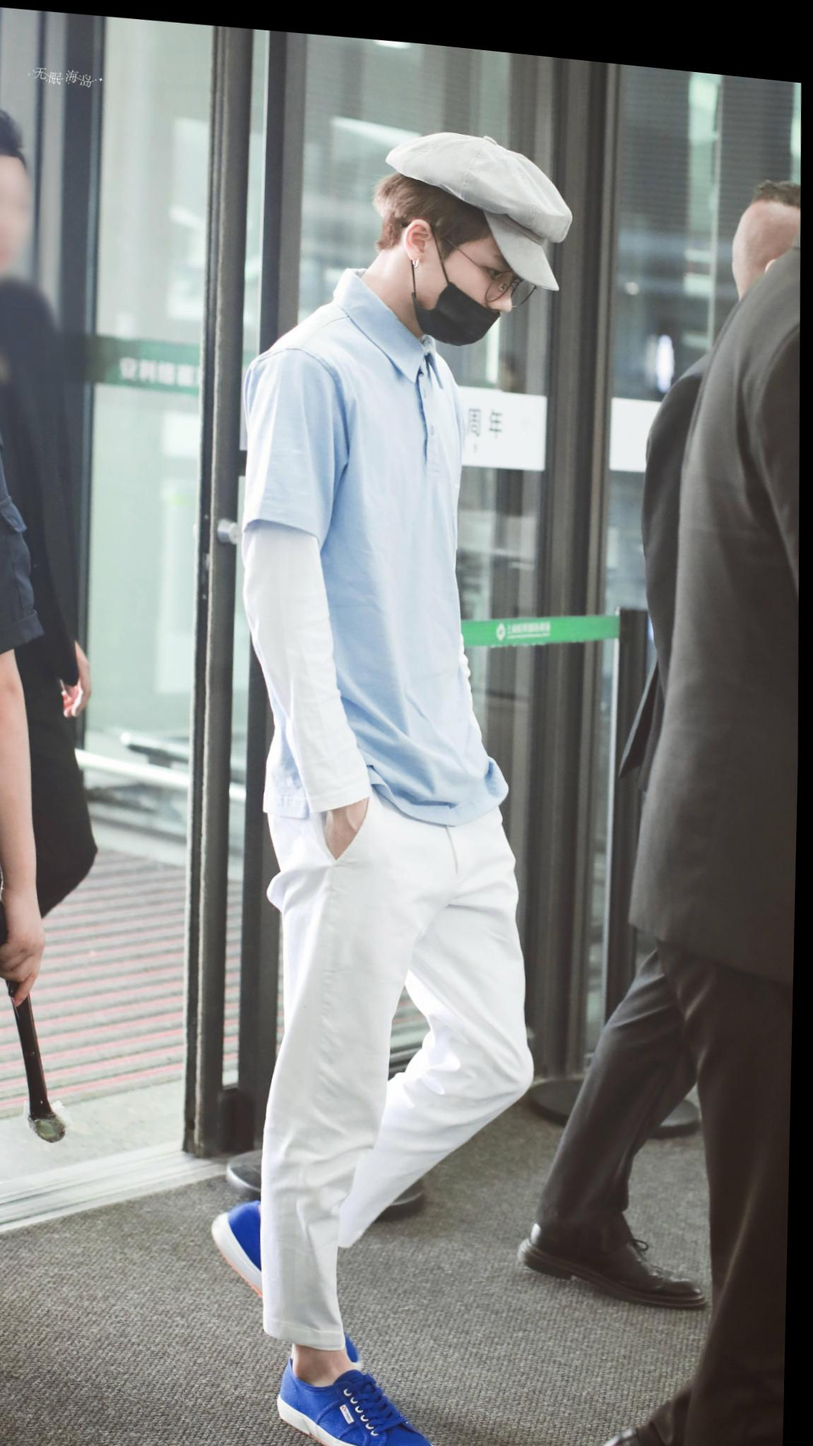NONE: (1, 167, 41, 286)
WRONG: (433, 221, 517, 340)
